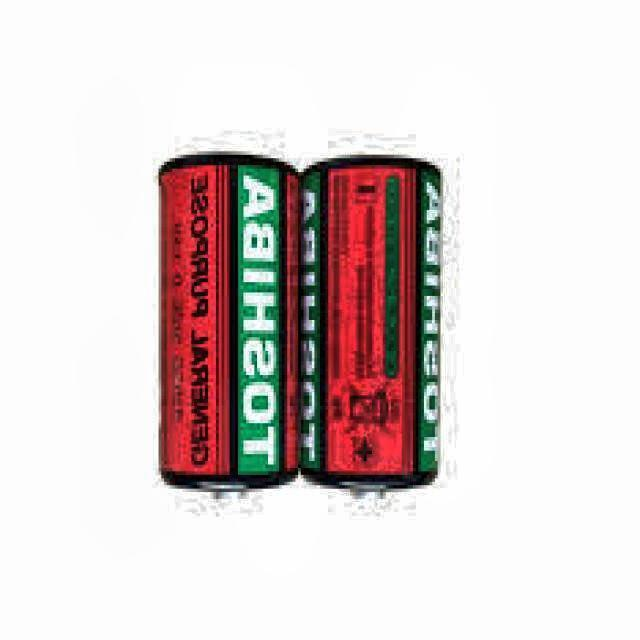battery: (159, 155, 302, 495), (300, 155, 444, 489)
